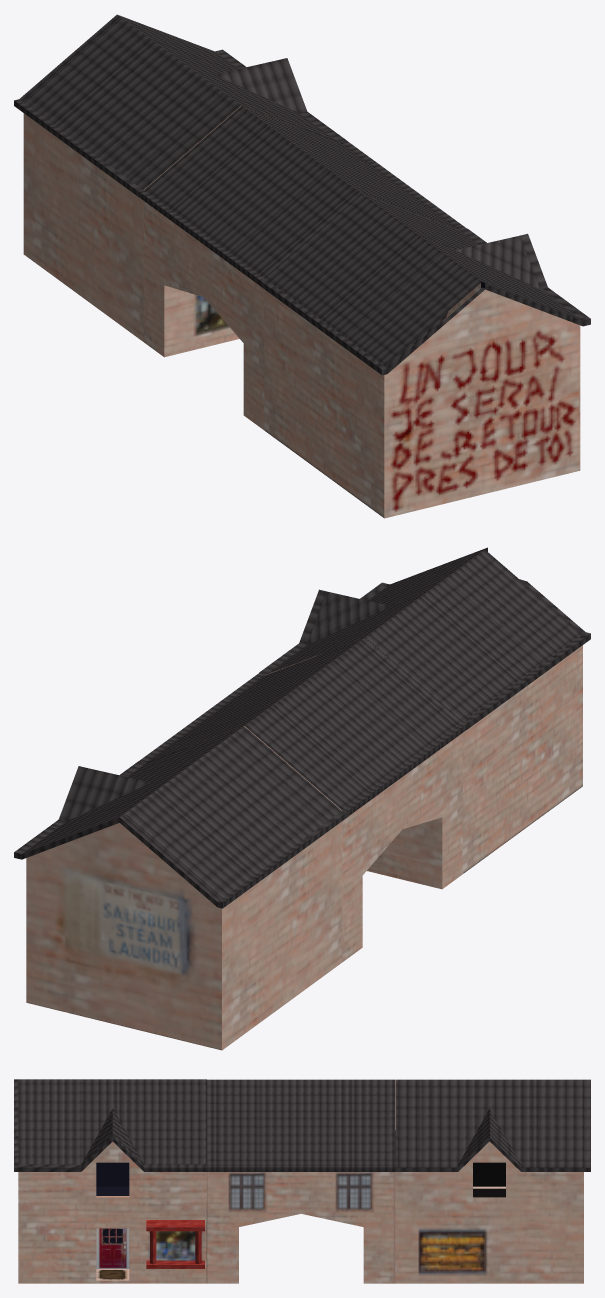
Rendered from Shops.fbx.
The picture shows the model from 3 angles, top to bottom: view 1: azimuth 30°, elevation 25°; view 2: azimuth 150°, elevation 25°; view 3: azimuth 270°, elevation 25°; orthographic projection. The views are drawn at different scales.
Parts seen in each view (by area): view 1: Shops.001, Shops.002, Shops; view 2: Shops.002, Shops.001, Shops; view 3: Shops.002, Shops.001, Shops, WindowShelf.
Part boxes in pixels (x1,y1,x2,y2): Shops.001: [259, 193, 590, 518]; Shops.002: [14, 14, 346, 341]; Shops: [139, 106, 466, 429]; Shops.002: [14, 726, 347, 1050]; Shops.001: [259, 547, 590, 873]; Shops: [139, 638, 467, 961]; Shops.002: [395, 1079, 590, 1283]; Shops.001: [14, 1079, 206, 1283]; Shops: [207, 1079, 395, 1283]; WindowShelf: [146, 1220, 204, 1268].
Bounding box in the file's own units: 1974 × 1887 × 5915.
